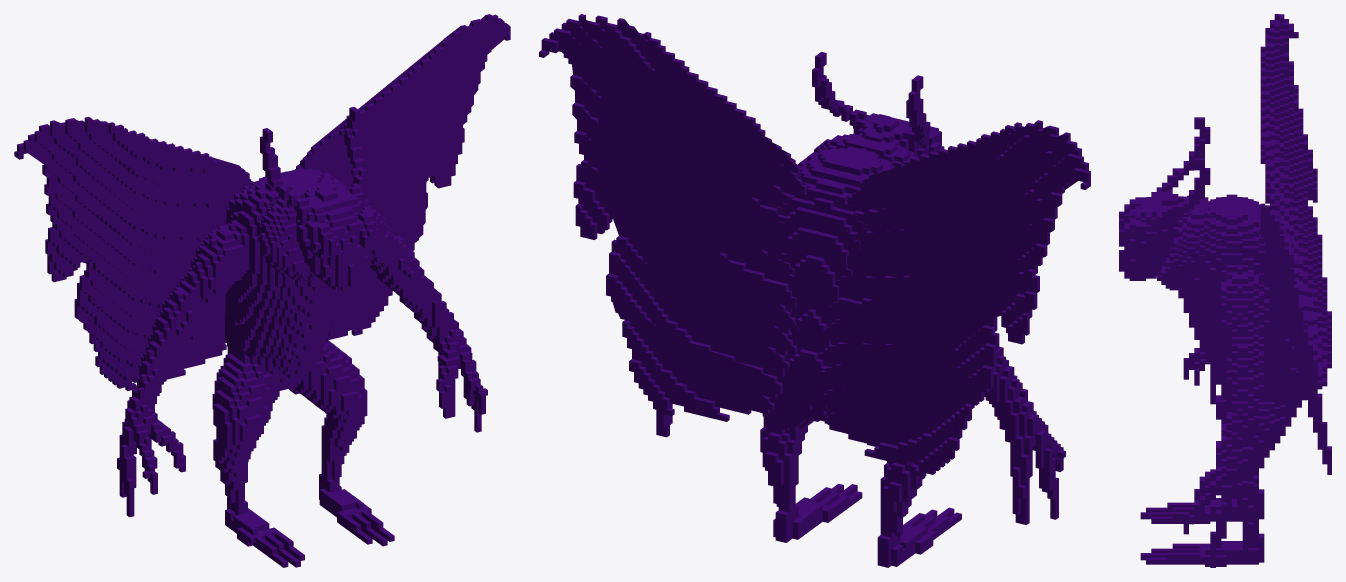
File: Mothman.fbx
3 renders of one model, left to right at view 1: azimuth 30°, elevation 25°; view 2: azimuth 150°, elevation 25°; view 3: azimuth 270°, elevation 25°, orthographic. The views are drawn at different scales.
Parts seen in each view (by area): view 1: Mothman_Voxel; view 2: Mothman_Voxel; view 3: Mothman_Voxel.
Boxes of the visible parts, <box> form: Mothman_Voxel: <box>14,14,510,567</box>; Mothman_Voxel: <box>539,14,1090,567</box>; Mothman_Voxel: <box>1119,14,1331,567</box>.
Size of the model in its own units: 276 by 234 by 107.
